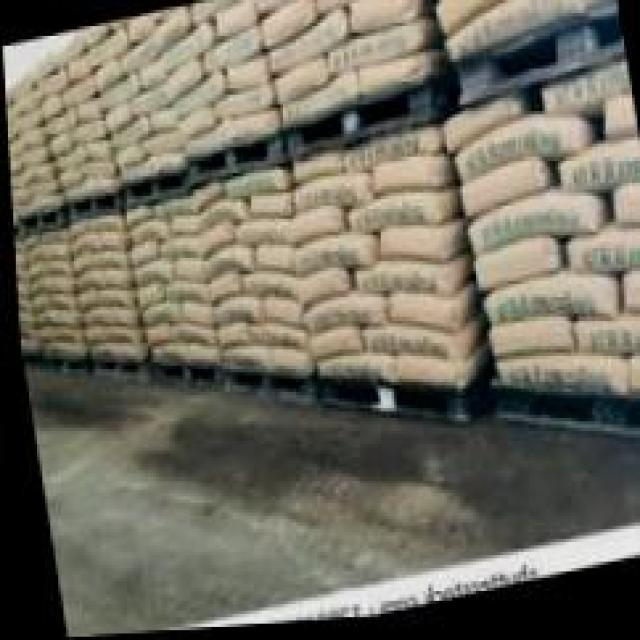gunny_bag: (479, 279, 615, 332), (465, 207, 589, 264), (436, 99, 520, 167), (492, 363, 625, 403), (461, 163, 541, 222), (328, 29, 419, 80), (545, 71, 631, 121), (556, 153, 640, 204), (360, 333, 459, 372), (564, 241, 640, 287), (282, 79, 352, 127), (356, 268, 444, 305), (303, 304, 381, 344), (347, 202, 435, 236), (358, 61, 429, 103), (386, 300, 453, 342), (292, 237, 360, 277), (245, 319, 305, 364), (370, 164, 433, 205), (377, 234, 448, 268), (273, 65, 326, 110), (280, 212, 341, 251), (291, 182, 362, 214), (174, 75, 222, 121), (240, 274, 301, 309), (270, 34, 318, 78), (214, 89, 272, 122), (289, 155, 344, 189), (195, 246, 248, 280), (225, 61, 270, 98), (222, 116, 276, 145), (232, 222, 282, 250), (178, 109, 214, 143), (160, 279, 200, 309), (195, 226, 229, 261), (173, 344, 215, 371), (210, 322, 243, 355), (128, 263, 168, 289), (112, 122, 145, 153), (159, 239, 196, 266), (143, 131, 179, 156), (124, 244, 156, 271), (103, 323, 138, 347), (173, 303, 205, 329), (129, 224, 166, 246), (95, 288, 131, 310), (73, 123, 105, 146), (111, 147, 143, 170), (25, 162, 54, 180), (142, 329, 170, 347), (81, 310, 95, 325)
